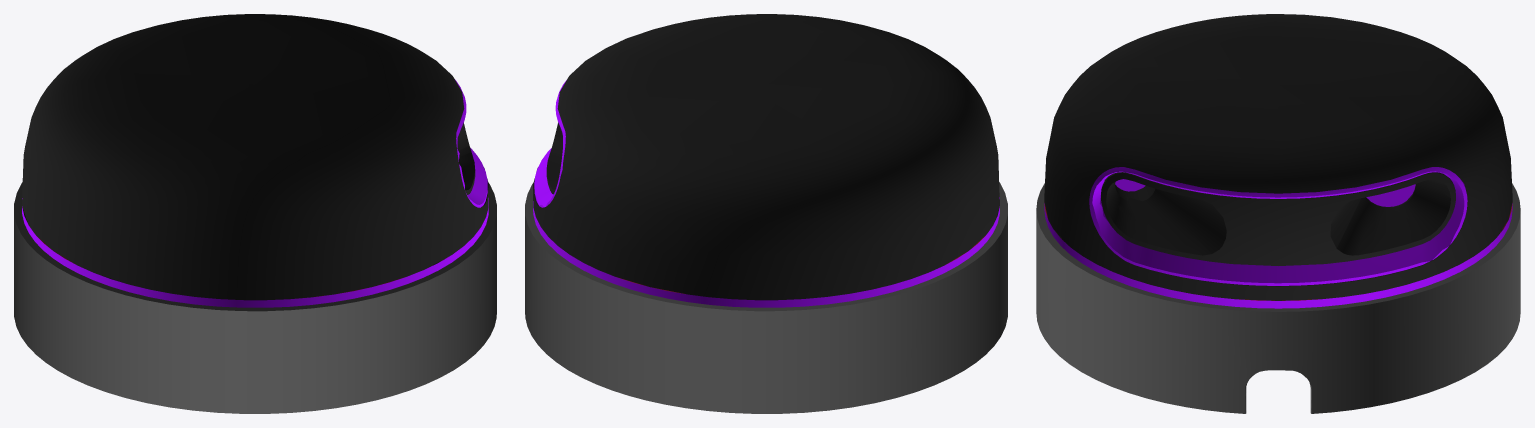
File: rplidar.dae
3 views of the same model, side by side, from view 1: azimuth 30°, elevation 25°; view 2: azimuth 150°, elevation 25°; view 3: azimuth 270°, elevation 25° (orthographic).
Visible parts, largest first — view 1: Object001; view 2: Object001; view 3: Object001.
Part boxes in pixels (x1=…): Object001: x1=14, y1=14, x2=496, y2=413; Object001: x1=525, y1=14, x2=1007, y2=413; Object001: x1=1036, y1=14, x2=1520, y2=413.
Size of the model in its own units: 0.075 by 0.075 by 0.039.
